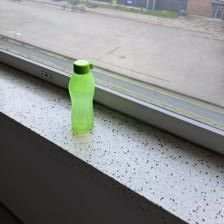bottle: (66, 56, 97, 138)
